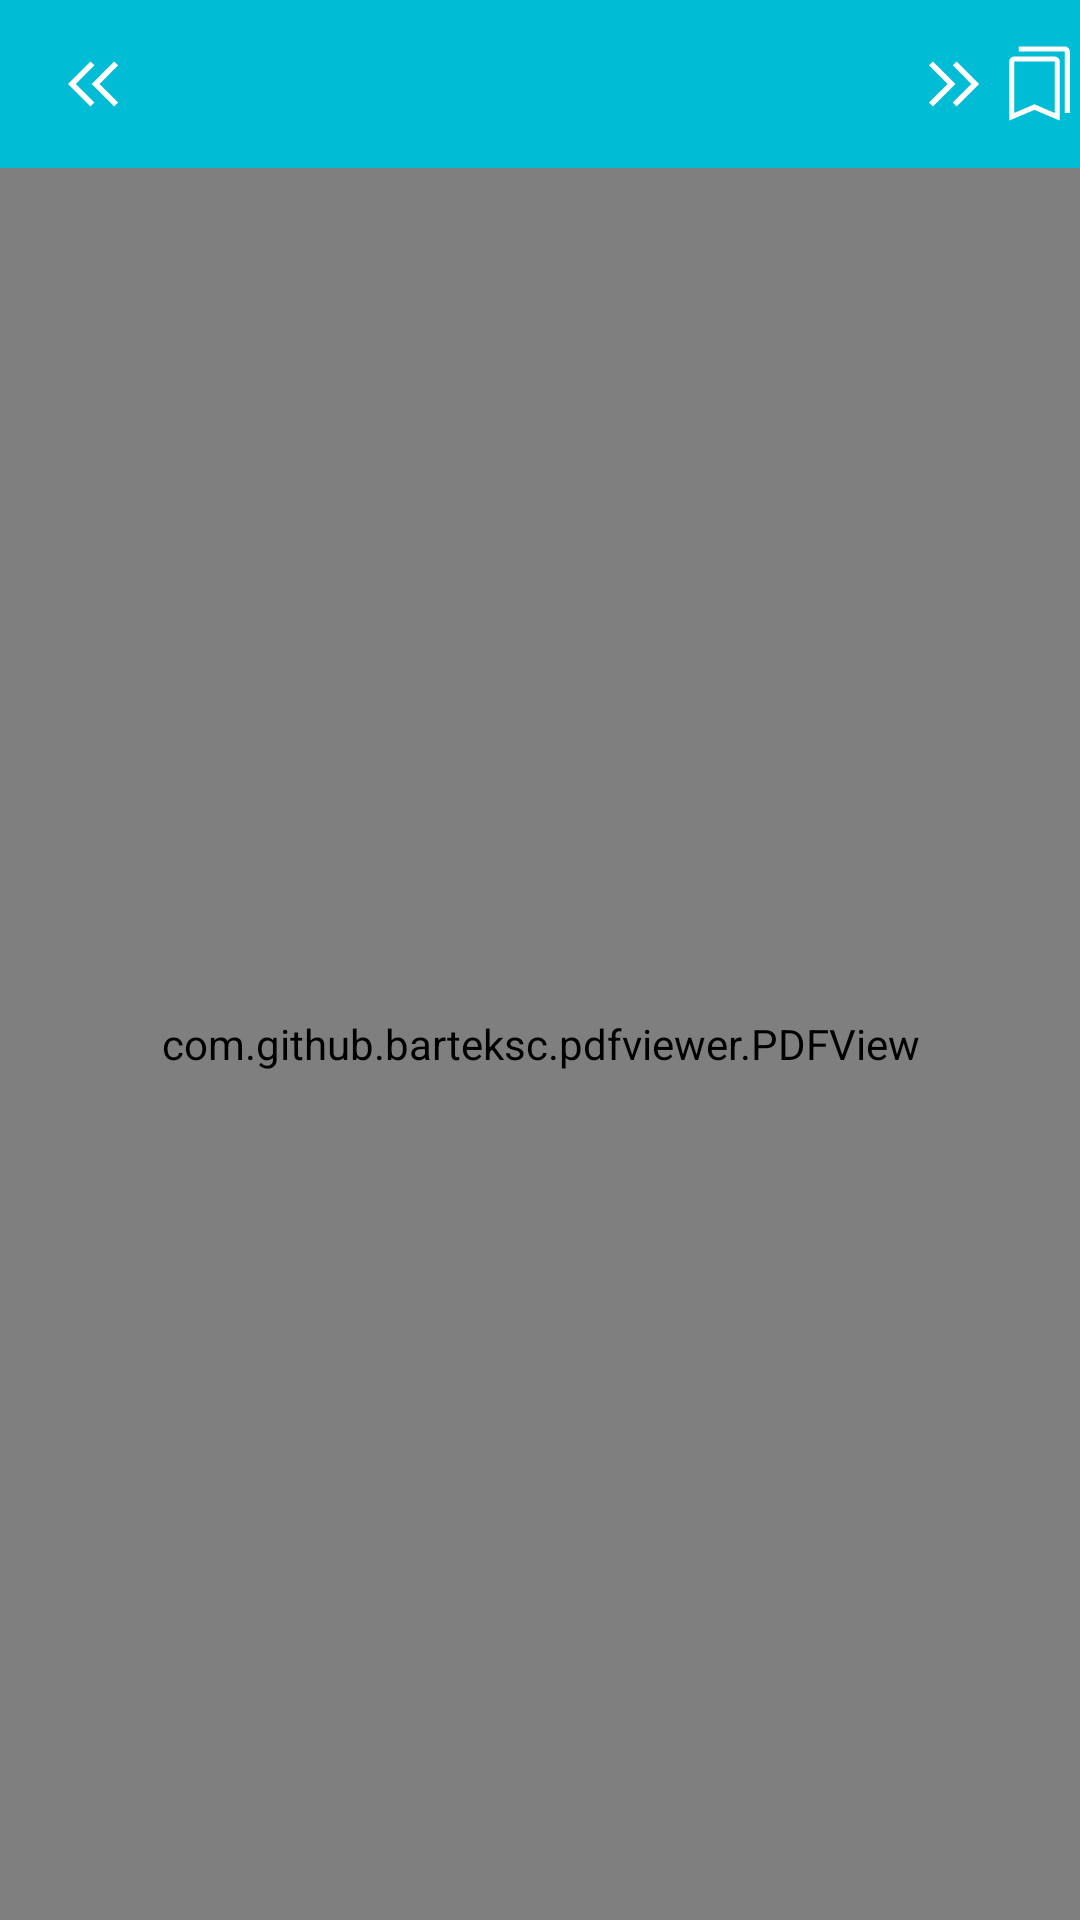

Named icons in this screenshot (1080 × 1920) and their bounding boxes, (x1, y1, x2, y2):
arrow left: (68, 61, 118, 107)
arrow right: (929, 61, 979, 107)
bookmark: (1009, 46, 1070, 121)
